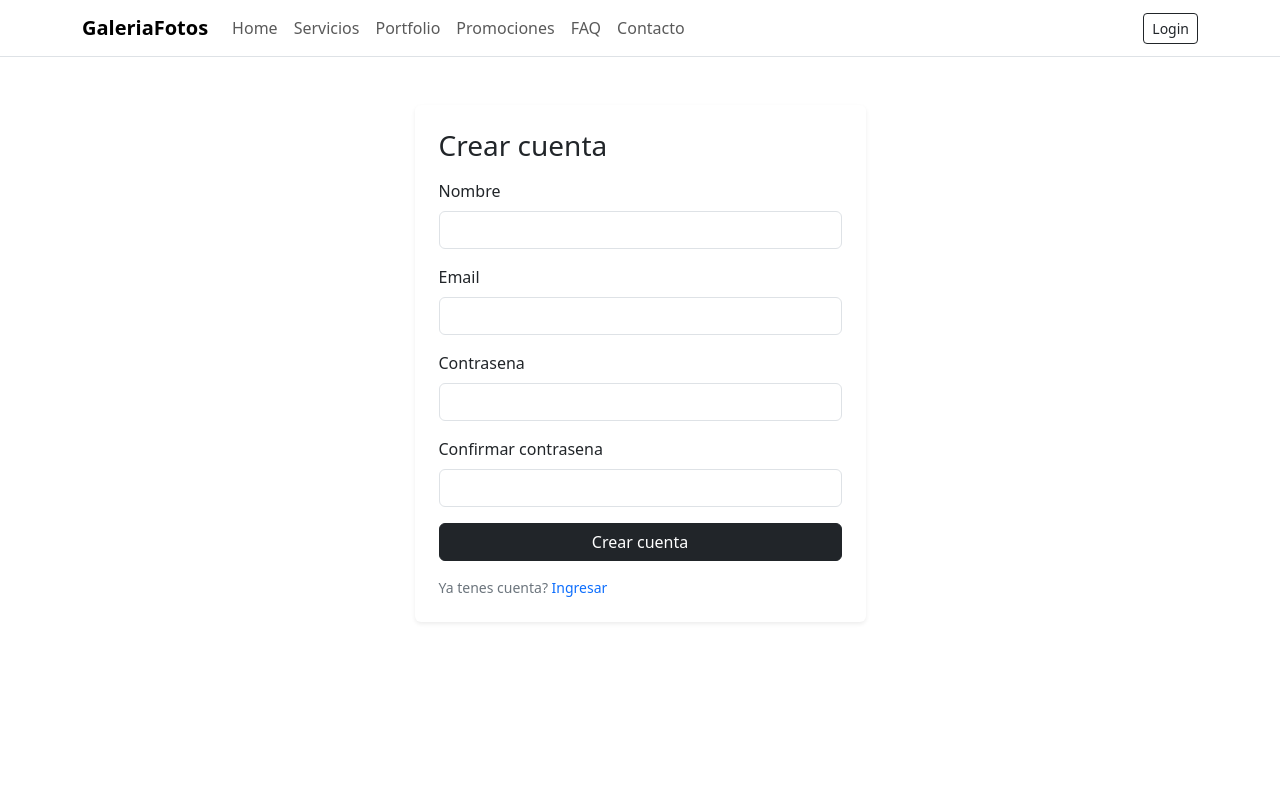
Scenario: RegisterPage › valida campos requeridos
The width and height of the screenshot is (1280, 800).
Click the button "Crear cuenta" at (640, 542), box x1=438 y1=523 x2=842 y2=561
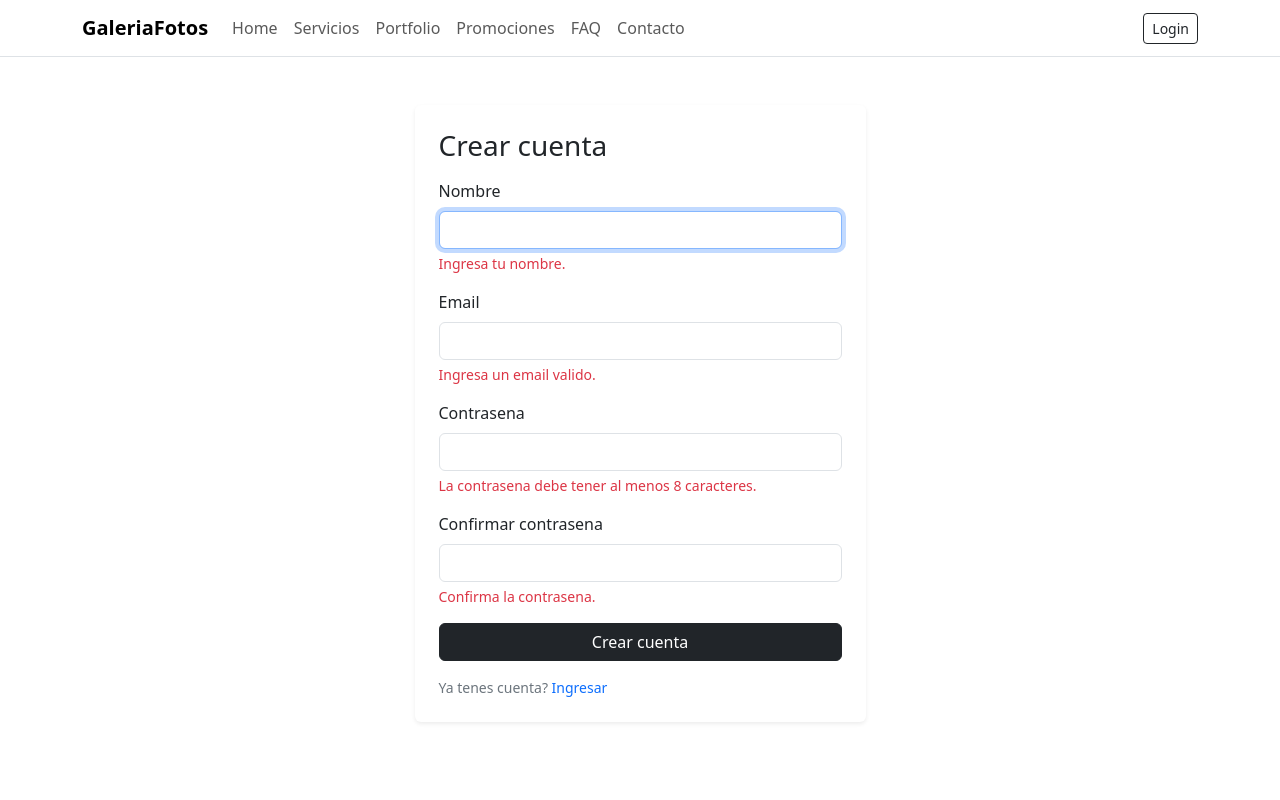
Check: the text "Ingresa tu nombre." is shown, box x1=438 y1=254 x2=565 y2=273
Check: the text "Ingresa un email valido." is shown, box x1=438 y1=365 x2=596 y2=384
